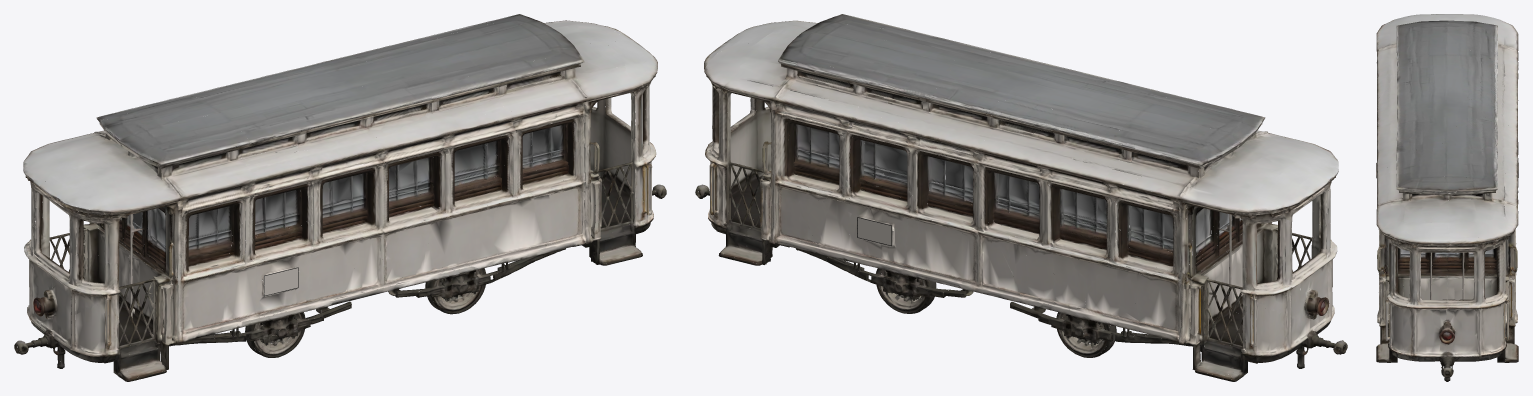
The model's file is ragheno_tirkama.glb.
The picture shows the model from 3 angles, left to right: view 1: azimuth 30°, elevation 25°; view 2: azimuth 150°, elevation 25°; view 3: azimuth 270°, elevation 25°; orthographic projection. The views are drawn at different scales.
Parts seen in each view (by area): view 1: Ragheno_tirkama_AI_tripo, raqam_plashka_-Y; view 2: Ragheno_tirkama_AI_tripo, raqam_plashka_+Y; view 3: Ragheno_tirkama_AI_tripo.
Part boxes in pixels (x1,y1,x2,y2): Ragheno_tirkama_AI_tripo: [14, 14, 666, 381]; raqam_plashka_-Y: [263, 267, 298, 296]; Ragheno_tirkama_AI_tripo: [695, 14, 1347, 381]; raqam_plashka_+Y: [857, 217, 892, 246]; Ragheno_tirkama_AI_tripo: [1376, 14, 1518, 381].
Size of the model in its own units: 8.3 by 2.87 by 2.
Materials: 3 (3 with a texture image).
